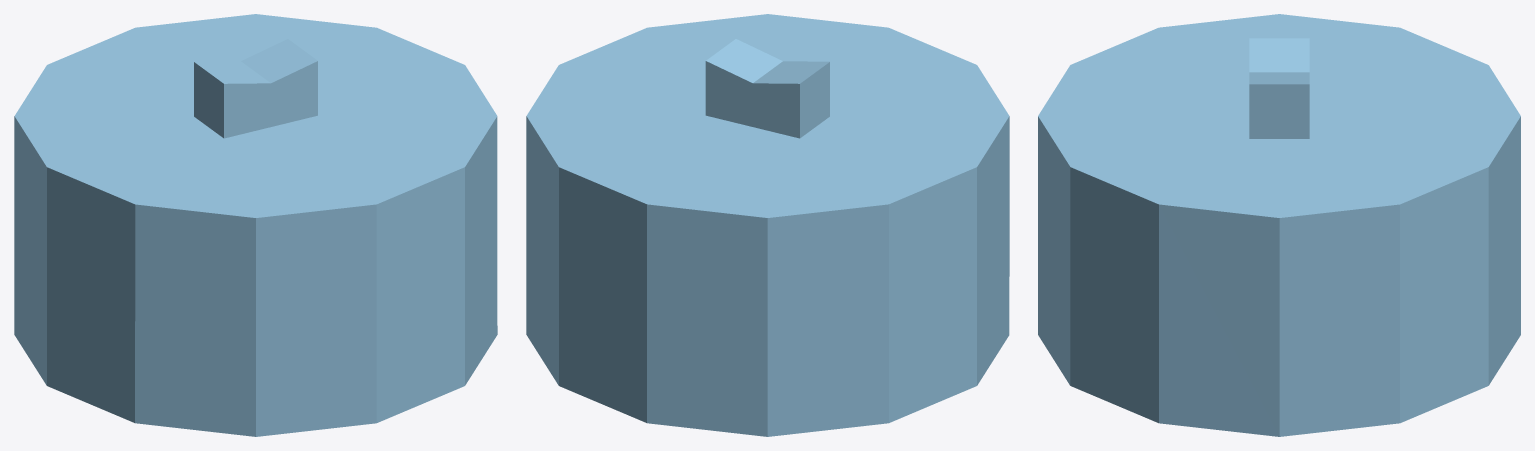
3 renders of one model, left to right at view 1: azimuth 30°, elevation 25°; view 2: azimuth 150°, elevation 25°; view 3: azimuth 270°, elevation 25°, orthographic.
Visible parts, largest first — view 1: 5eb193a868f82f15e42ecb2b; view 2: 5eb193a868f82f15e42ecb2b; view 3: 5eb193a868f82f15e42ecb2b.
Boxes of the visible parts, x1,y1,x2,y2 form: 5eb193a868f82f15e42ecb2b: (14, 14, 497, 436); 5eb193a868f82f15e42ecb2b: (526, 14, 1009, 436); 5eb193a868f82f15e42ecb2b: (1038, 14, 1520, 436).
Bounding box in the file's own units: 0.0004 × 0.0004 × 0.00025.
